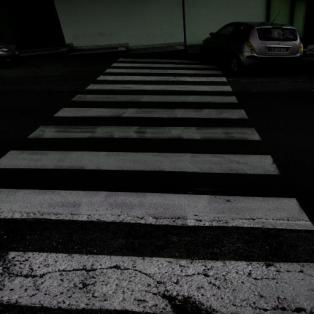Paso de Cebra: (0, 186, 312, 313), (20, 106, 267, 146), (77, 76, 236, 94)
